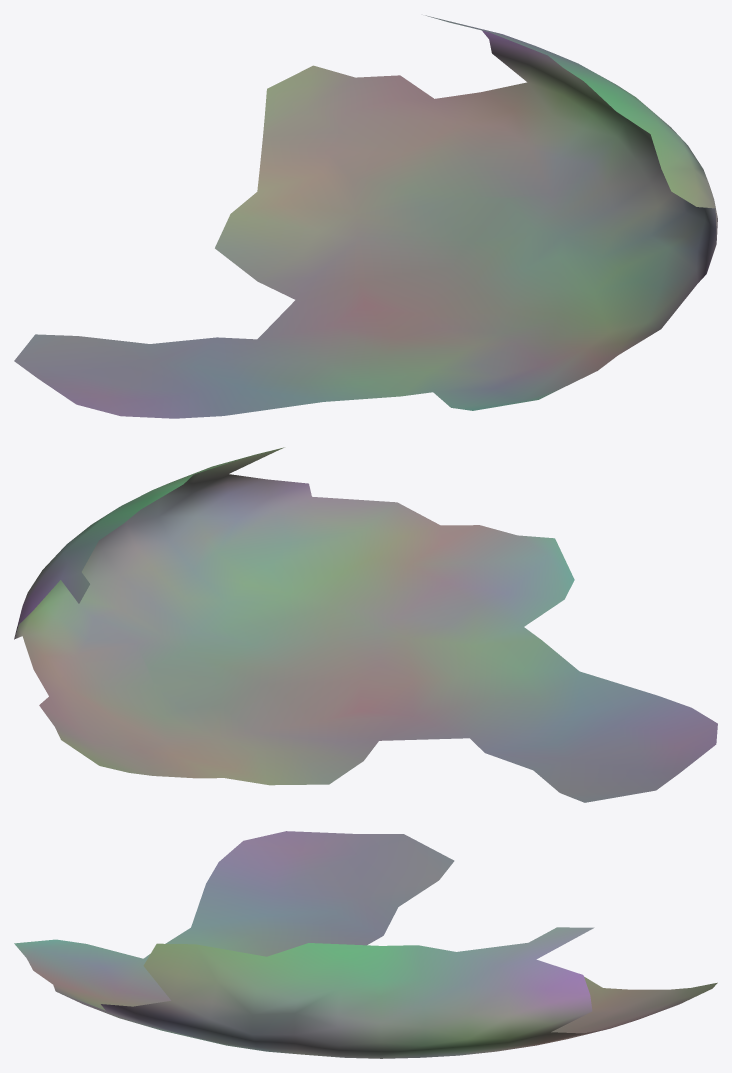
File: space-nebulae-nebula_v41.fbx
The picture shows the model from 3 angles, top to bottom: view 1: azimuth 30°, elevation 25°; view 2: azimuth 150°, elevation 25°; view 3: azimuth 270°, elevation 25°; orthographic projection. The views are drawn at different scales.
Parts seen in each view (by area): view 1: Nebula_v41; view 2: Nebula_v41; view 3: Nebula_v41.
Part boxes in pixels (<box>): Nebula_v41: <box>14,15,717,418</box>; Nebula_v41: <box>14,447,717,802</box>; Nebula_v41: <box>14,831,717,1058</box>.
Size of the model in its own units: 0.4797 by 0.1226 by 0.5.
